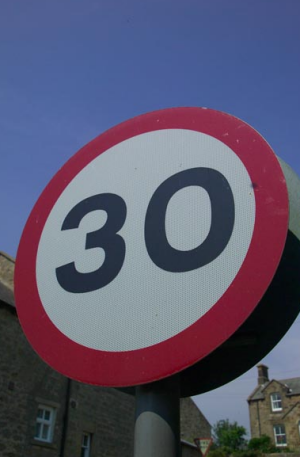Speed_limit_30km: (9, 107, 291, 389)
